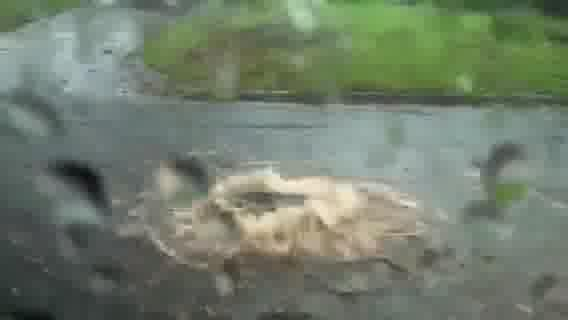drainage_overflow: (170, 177, 375, 241)
